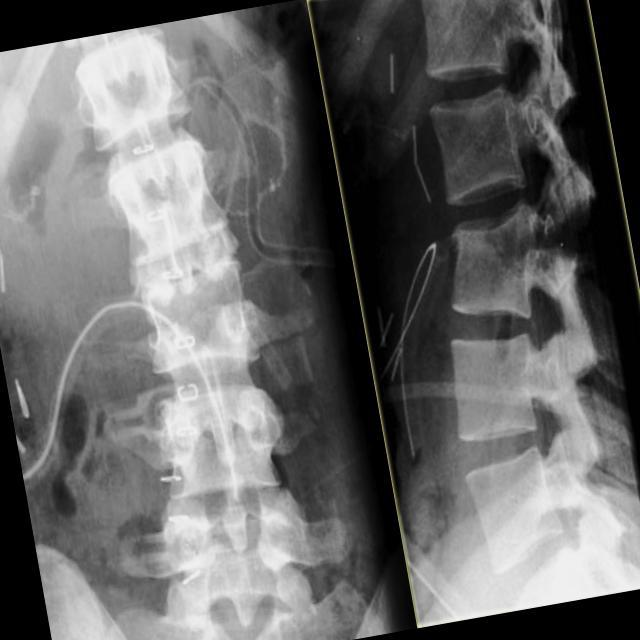Compression-Crush Fracutre: (426, 212, 578, 321)
